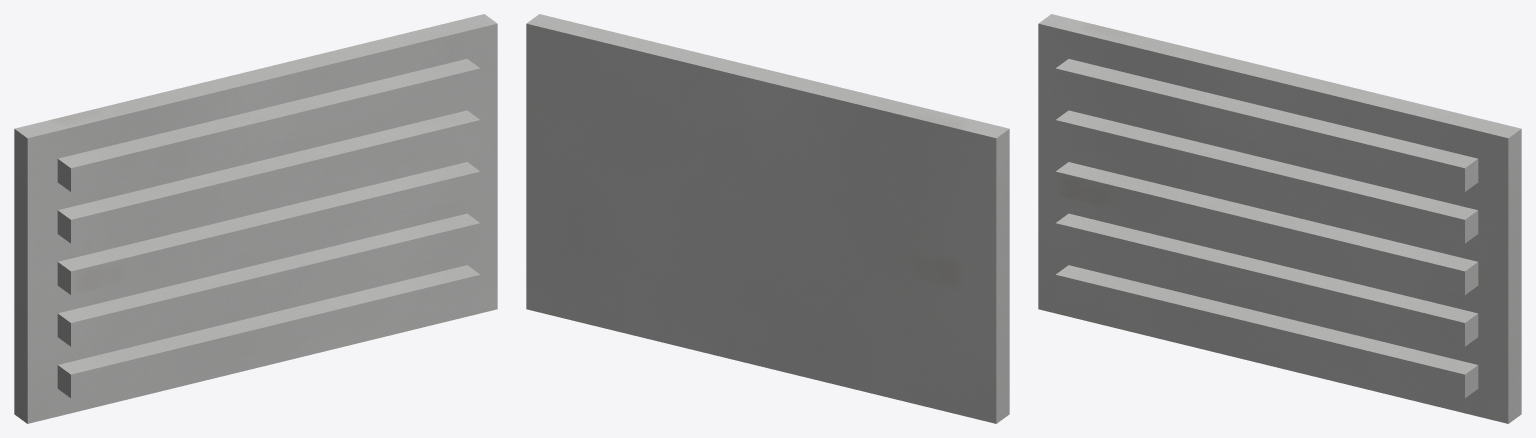
File: vent.gltf
3 views of the same model, side by side, from view 1: azimuth 30°, elevation 25°; view 2: azimuth 150°, elevation 25°; view 3: azimuth 330°, elevation 25° (orthographic).
Parts seen in each view (by area): view 1: jx_vent; view 2: jx_vent; view 3: jx_vent.
Boxes of the visible parts, box(x1,y1,x2,y2) form: jx_vent: box(14, 14, 497, 423); jx_vent: box(526, 14, 1009, 423); jx_vent: box(1038, 14, 1521, 423).
Size of the model in its own units: 0.62 by 0.36 by 0.06.
1 material, 1 textured.
